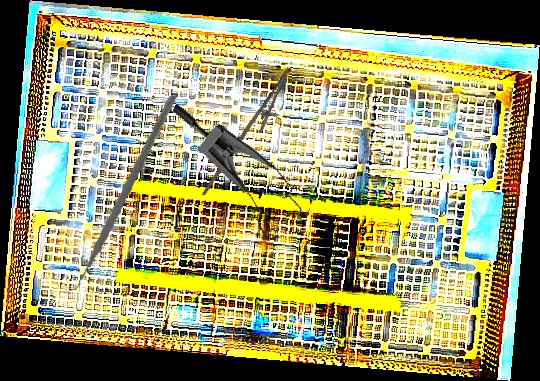Chopper: (39, 95, 194, 294)
Needle Holder: (201, 58, 301, 210)
Speculum: (139, 102, 326, 252)
